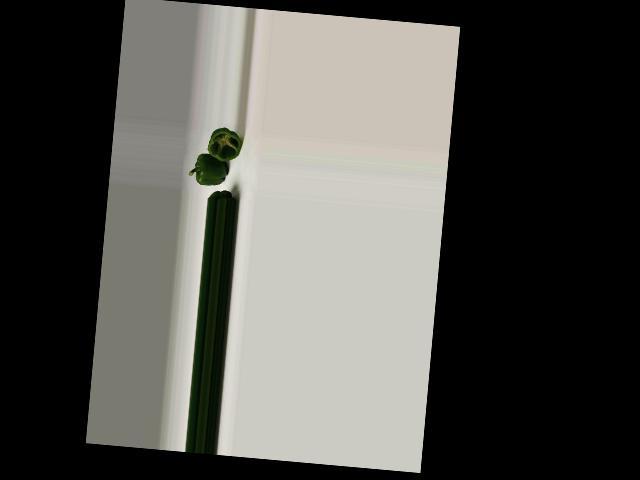bell_pepper: (203, 124, 245, 164)
